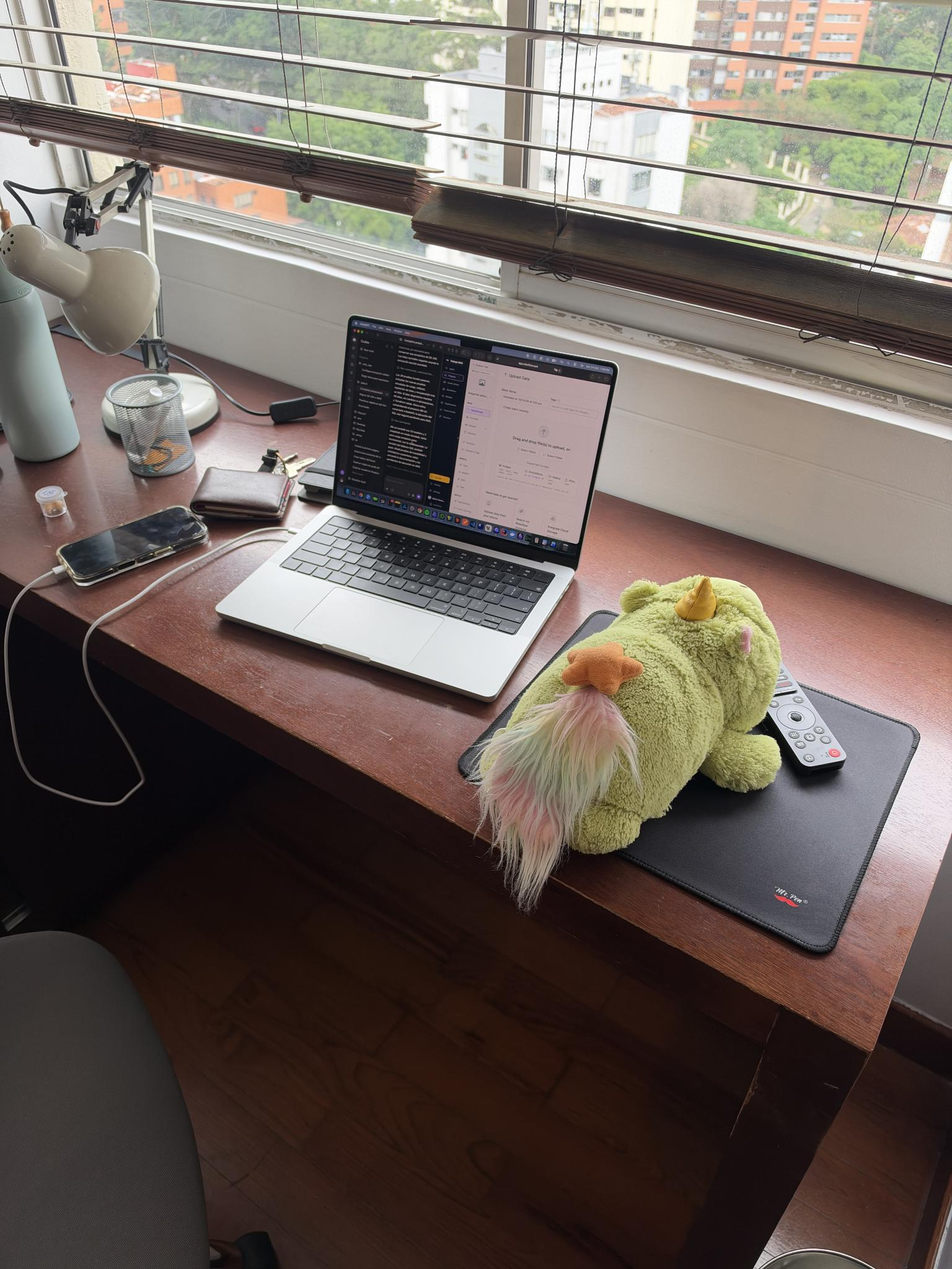peluche_martin: (464, 573, 784, 913)
